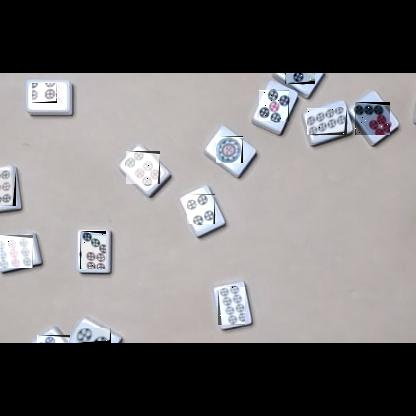1p: (216, 136, 243, 163)
2p: (76, 328, 111, 343)
4p: (187, 194, 215, 224), (33, 84, 62, 108), (285, 73, 315, 84)
5p: (259, 90, 289, 121)
6p: (126, 151, 160, 184), (37, 335, 70, 343)
7p: (355, 102, 390, 135), (80, 231, 106, 269)
8p: (307, 108, 347, 135), (218, 287, 245, 325)
9p: (0, 235, 33, 268), (0, 170, 16, 206)
